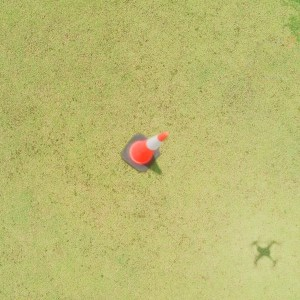traffic cone: (121, 132, 168, 172)
